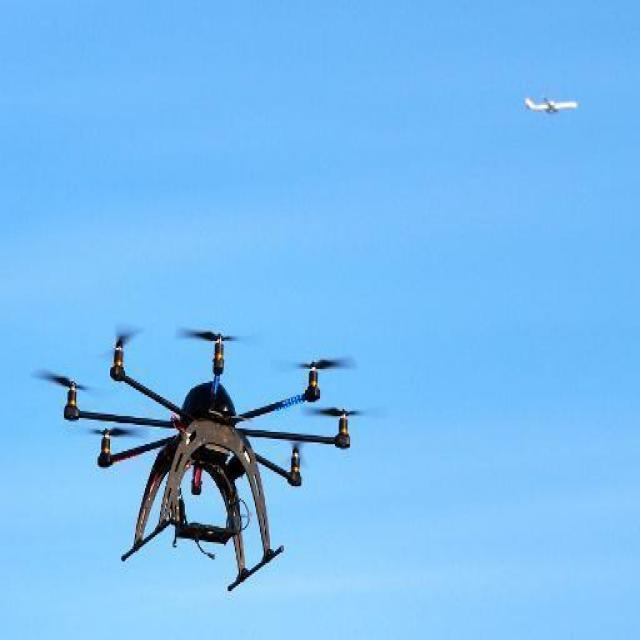UAV: (61, 327, 351, 595)
